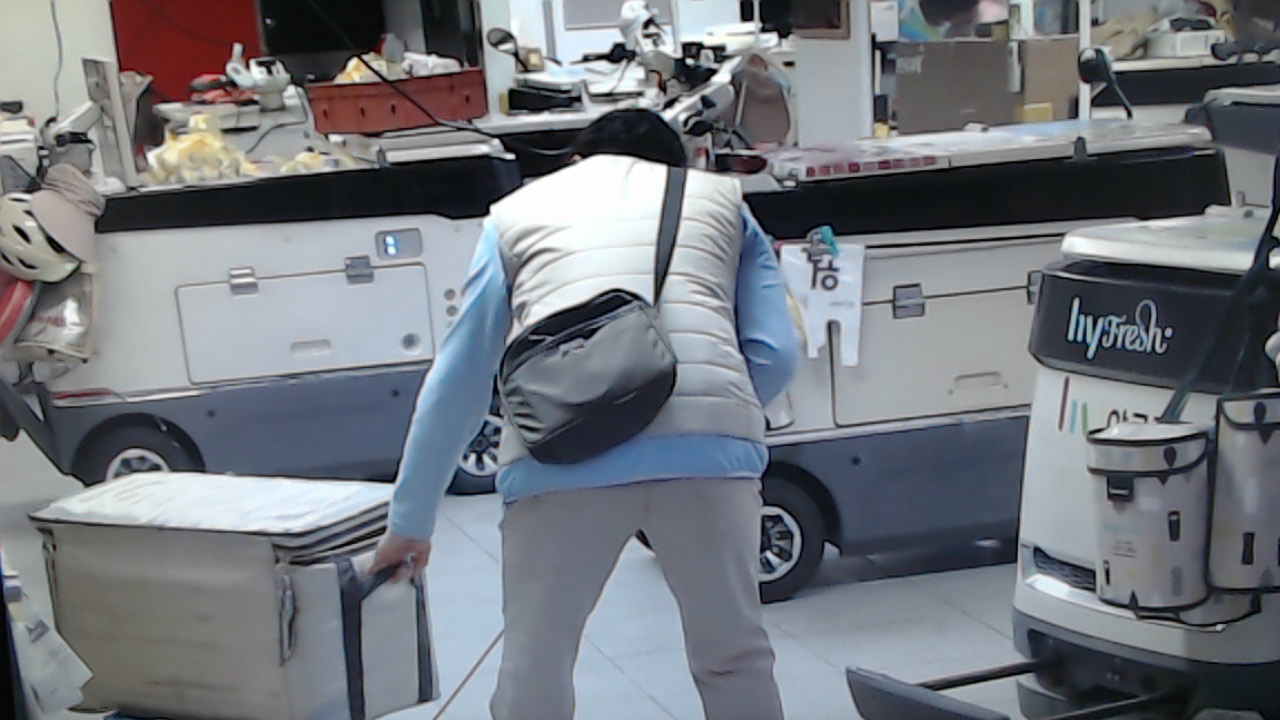Yakurut: (373, 104, 809, 720)
